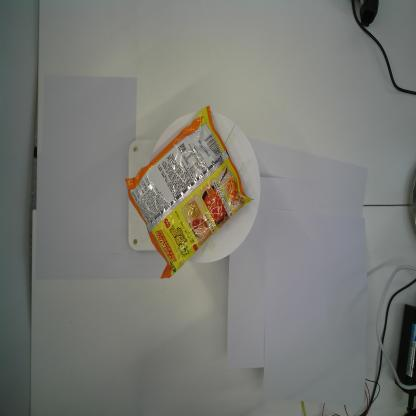Instant Noodles: (124, 102, 258, 283)
